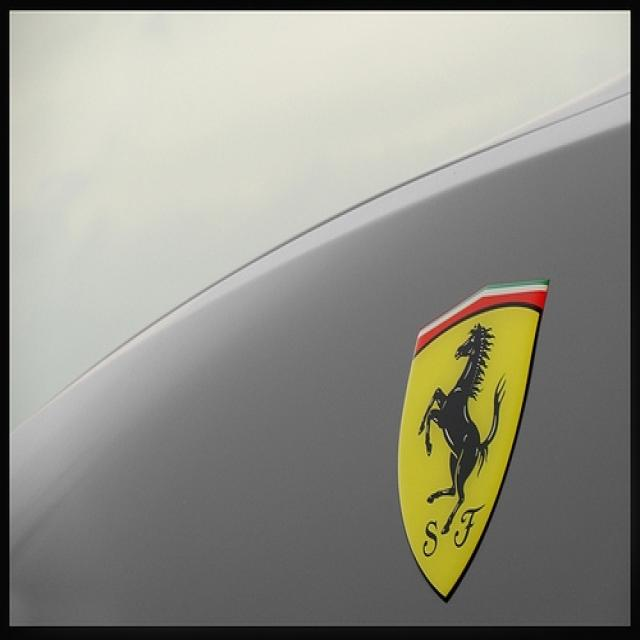ferrari: (396, 285, 549, 599)
